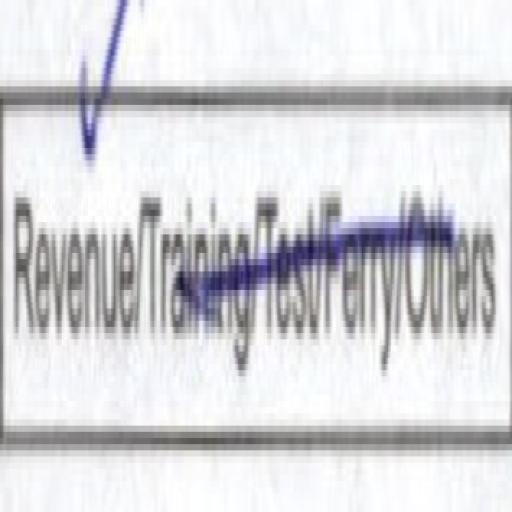check: (0, 0, 135, 435)
